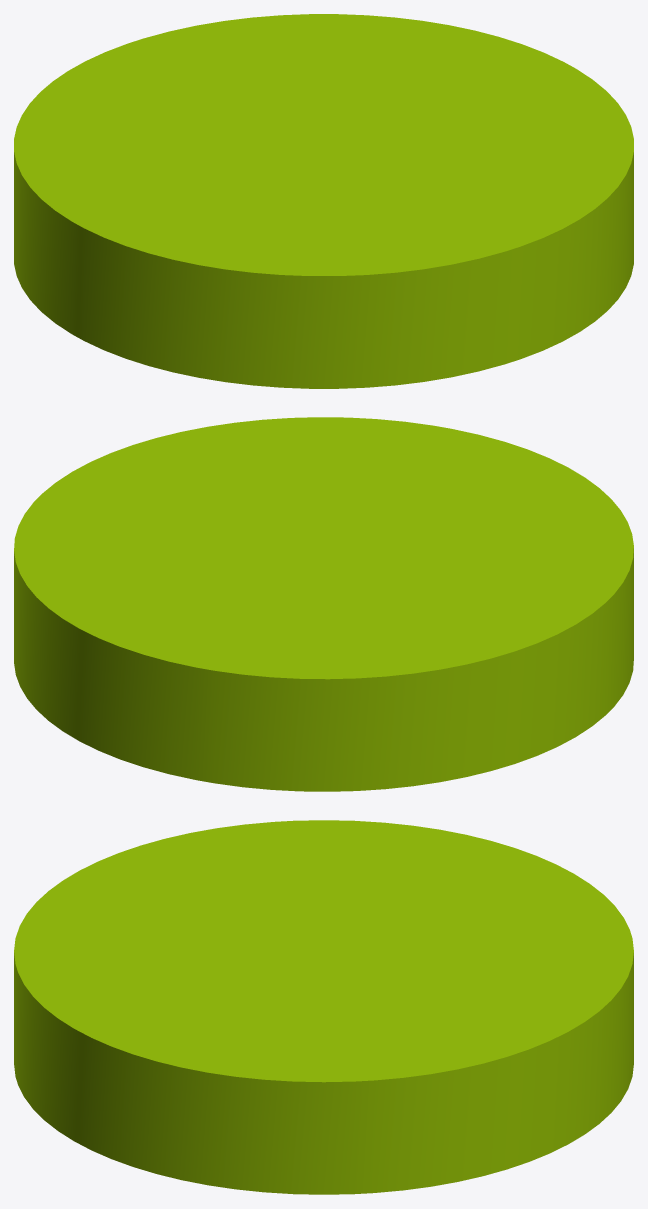
File: ficha_verde.glb
3 views of the same model, one above another, from view 1: azimuth 30°, elevation 25°; view 2: azimuth 150°, elevation 25°; view 3: azimuth 270°, elevation 25° (orthographic).
Visible parts, largest first — view 1: ficha_verde; view 2: ficha_verde; view 3: ficha_verde.
Part boxes in pixels (x1=…): ficha_verde: x1=14, y1=14, x2=633, y2=388; ficha_verde: x1=14, y1=417, x2=633, y2=791; ficha_verde: x1=14, y1=820, x2=633, y2=1194.
Size of the model in its own units: 0.0176 by 0.00353 by 0.0176.
